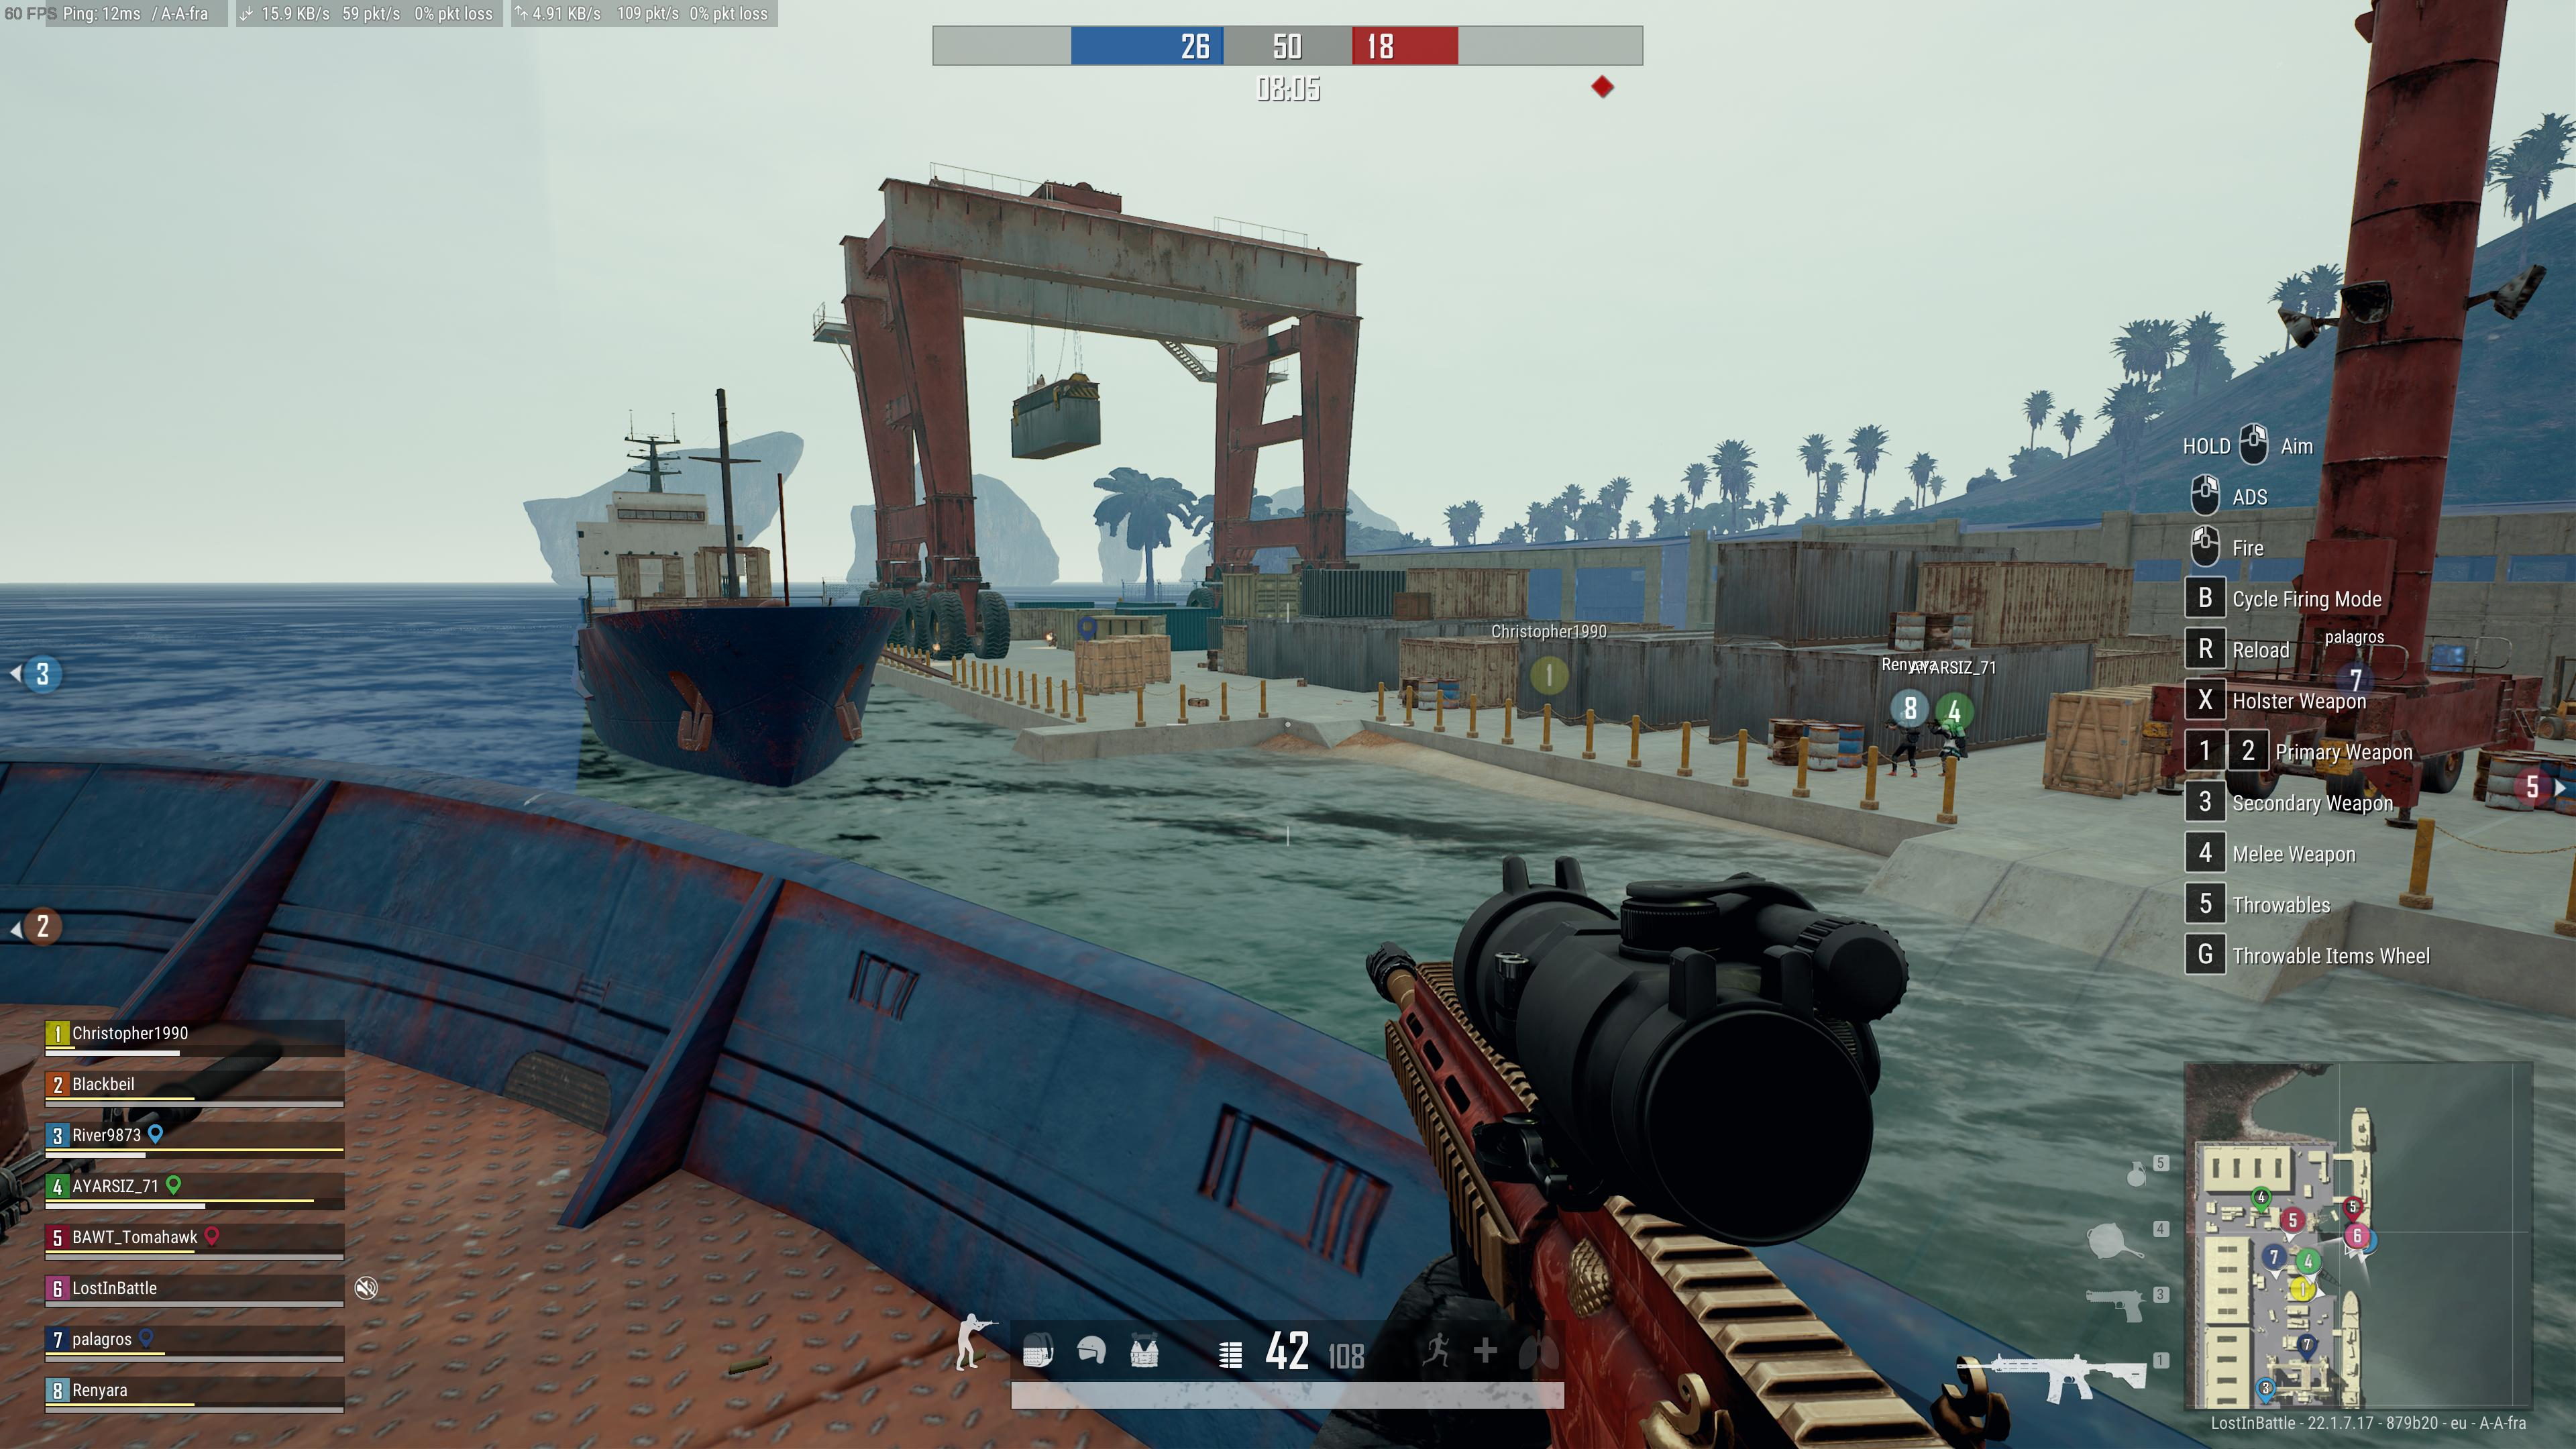enemy: (1046, 632, 1056, 648)
enemy_head: (1049, 632, 1053, 637)
friendly: (1884, 701, 1927, 777), (1928, 704, 1971, 778)
